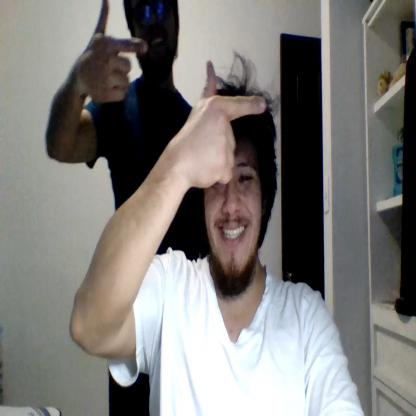G: (187, 58, 266, 187), (89, 0, 148, 101)
